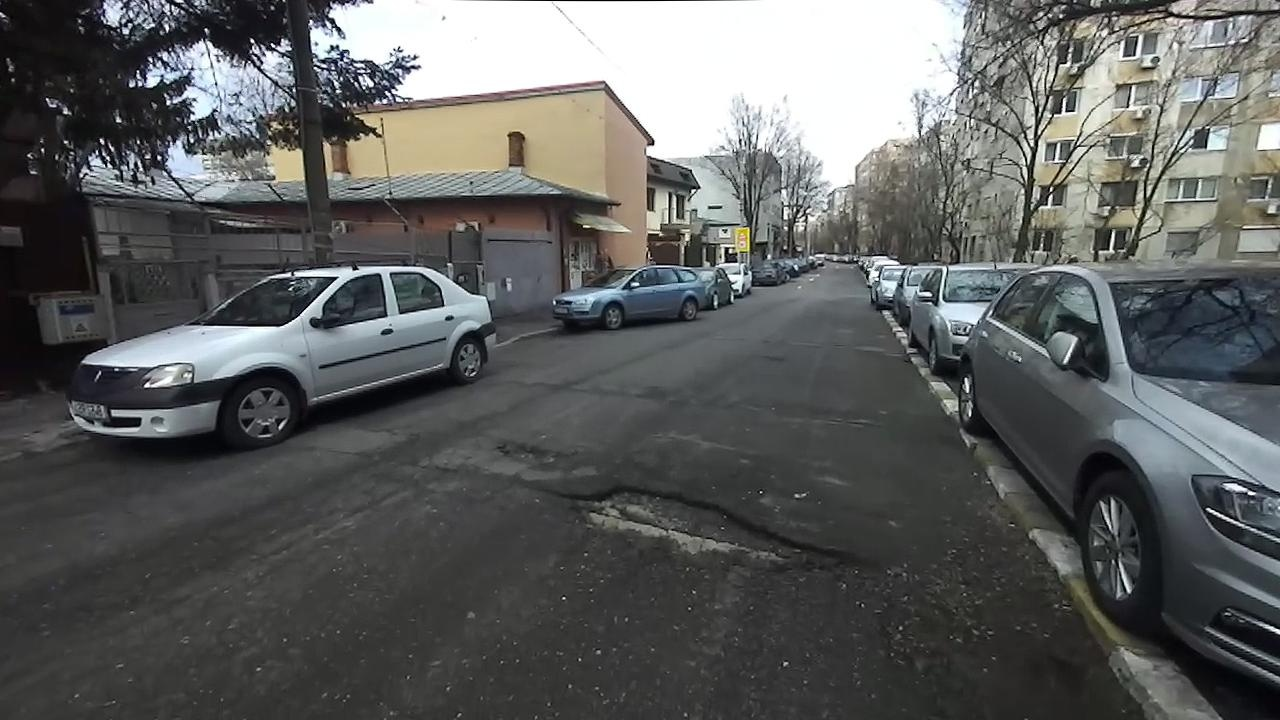pothole: (525, 478, 868, 573), (486, 435, 571, 467)
